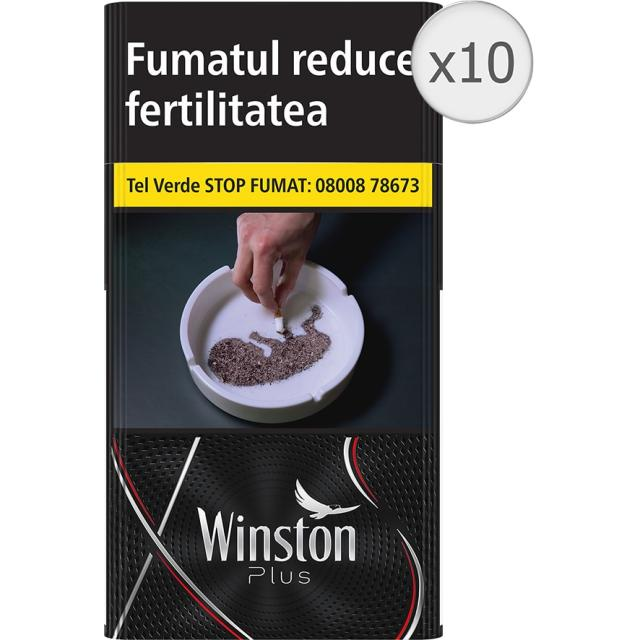winston: (106, 3, 457, 640)
